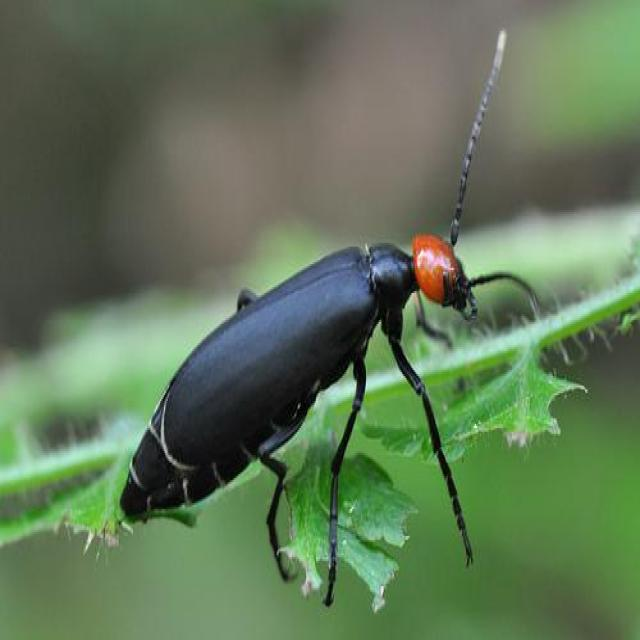BlisterBeetle-Adult-: (118, 25, 549, 587)
